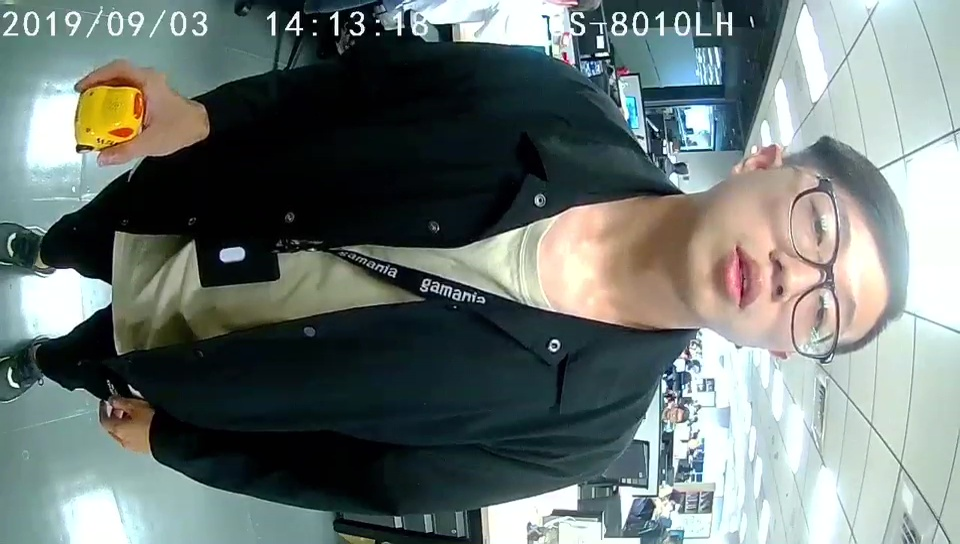car: (75, 83, 145, 154)
